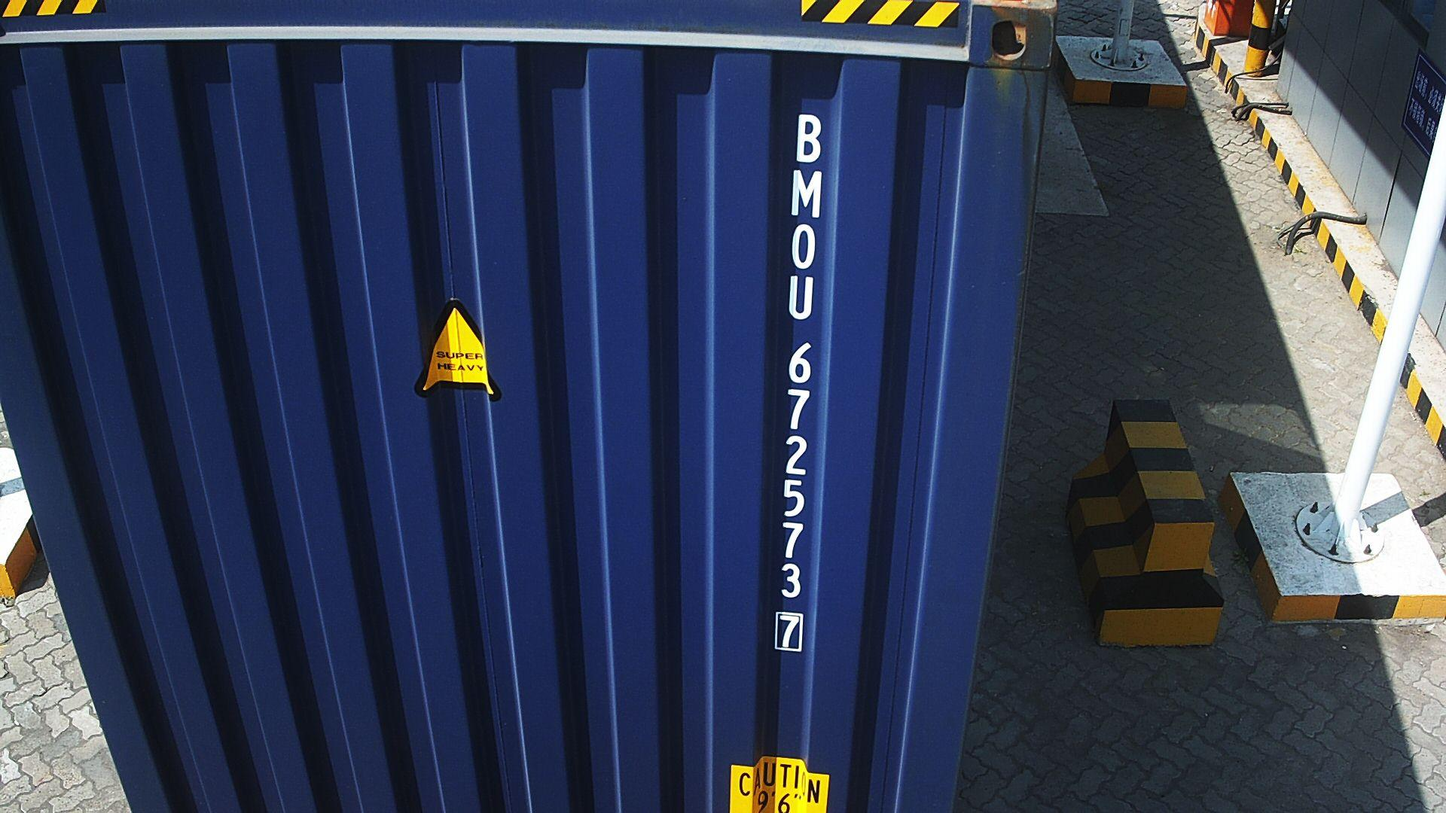container-numbers: (768, 105, 829, 656)
